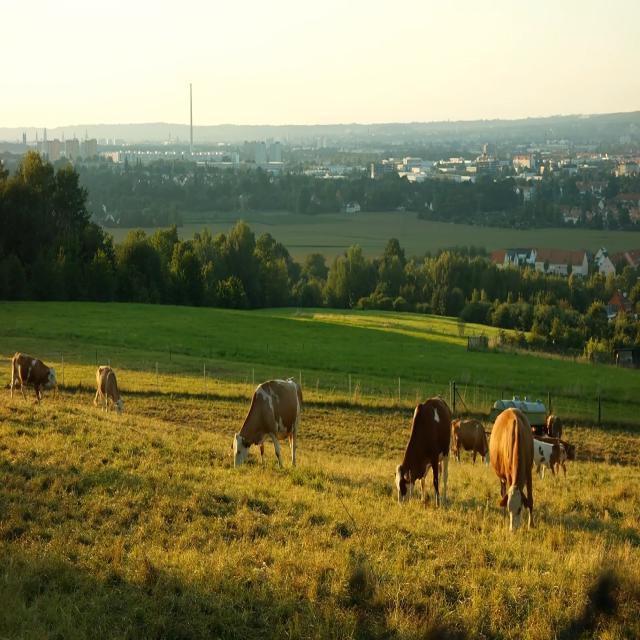cow: (215, 350, 326, 483), (377, 383, 461, 519), (488, 401, 545, 534), (9, 339, 60, 414), (85, 350, 136, 420)
